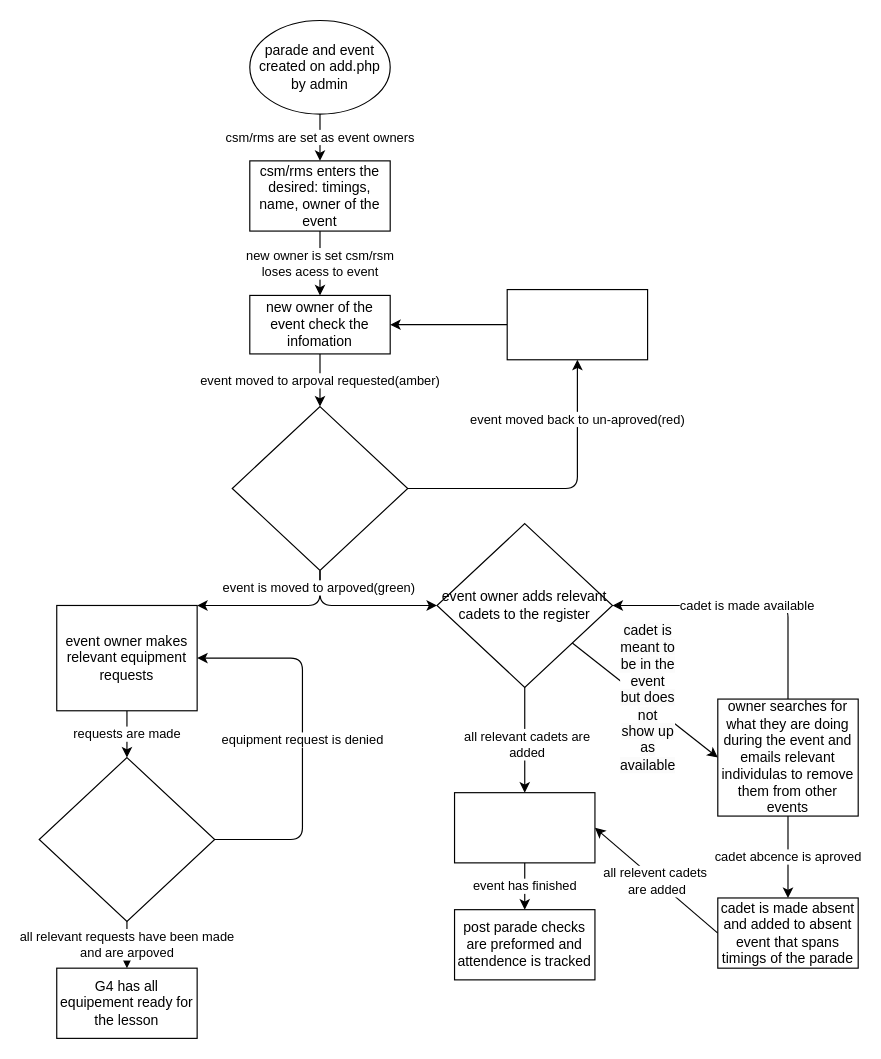
Some shapes in this 881 by 1059 pixel diagram are drawn without their labels. Each missing label, with the centre of its shape:
"admin emails the event owner with any changes they want to see" belongs at (577,324).
"G4 arproves/denies equipment requests" belongs at (126,838).
"register is filled out at the start of the event" belongs at (524,827).
"system admin sets the events arpoval" belongs at (319,487).
